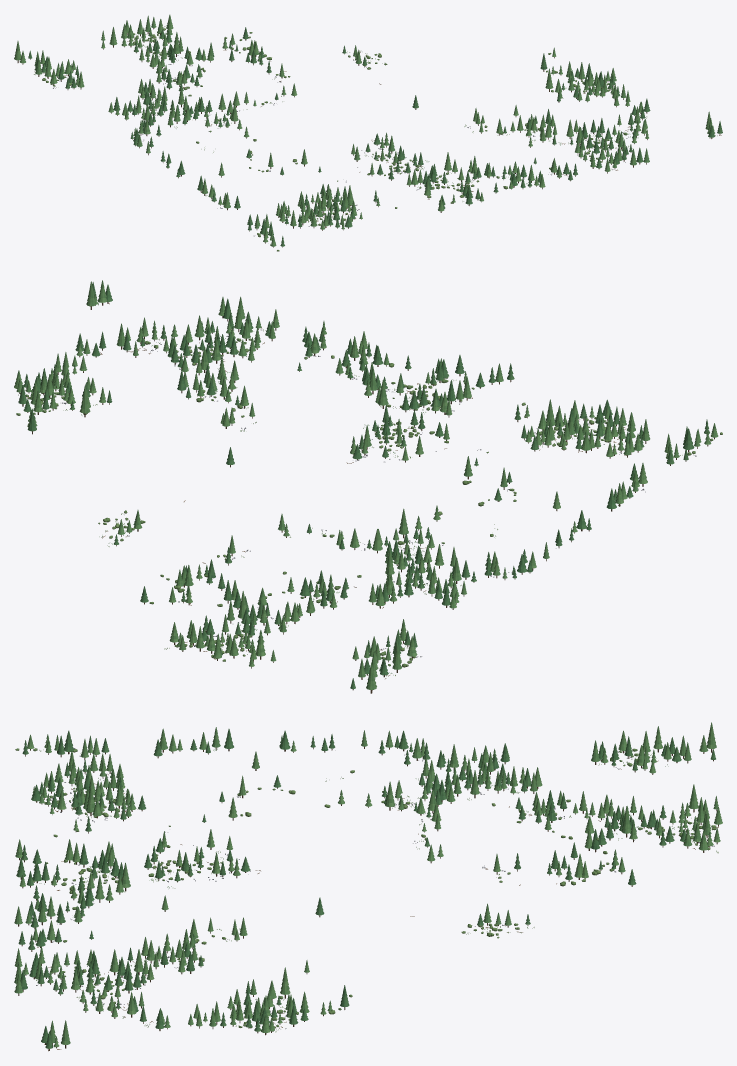
The model's file is Foliage_P3.fbx.
The picture shows the model from 3 angles, top to bottom: view 1: azimuth 30°, elevation 25°; view 2: azimuth 150°, elevation 25°; view 3: azimuth 270°, elevation 25°; orthographic projection. The views are drawn at different scales.
Bounding box in the file's own units: 61314 × 5308 × 61232.
